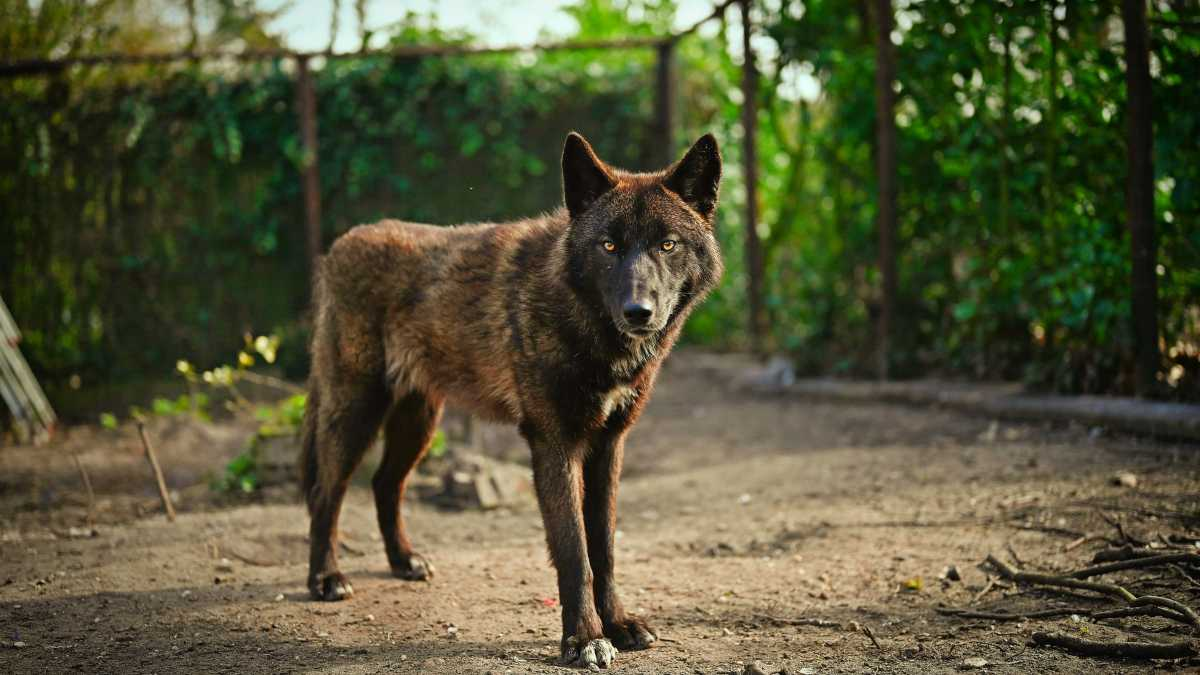Lobo: (246, 115, 775, 629)
